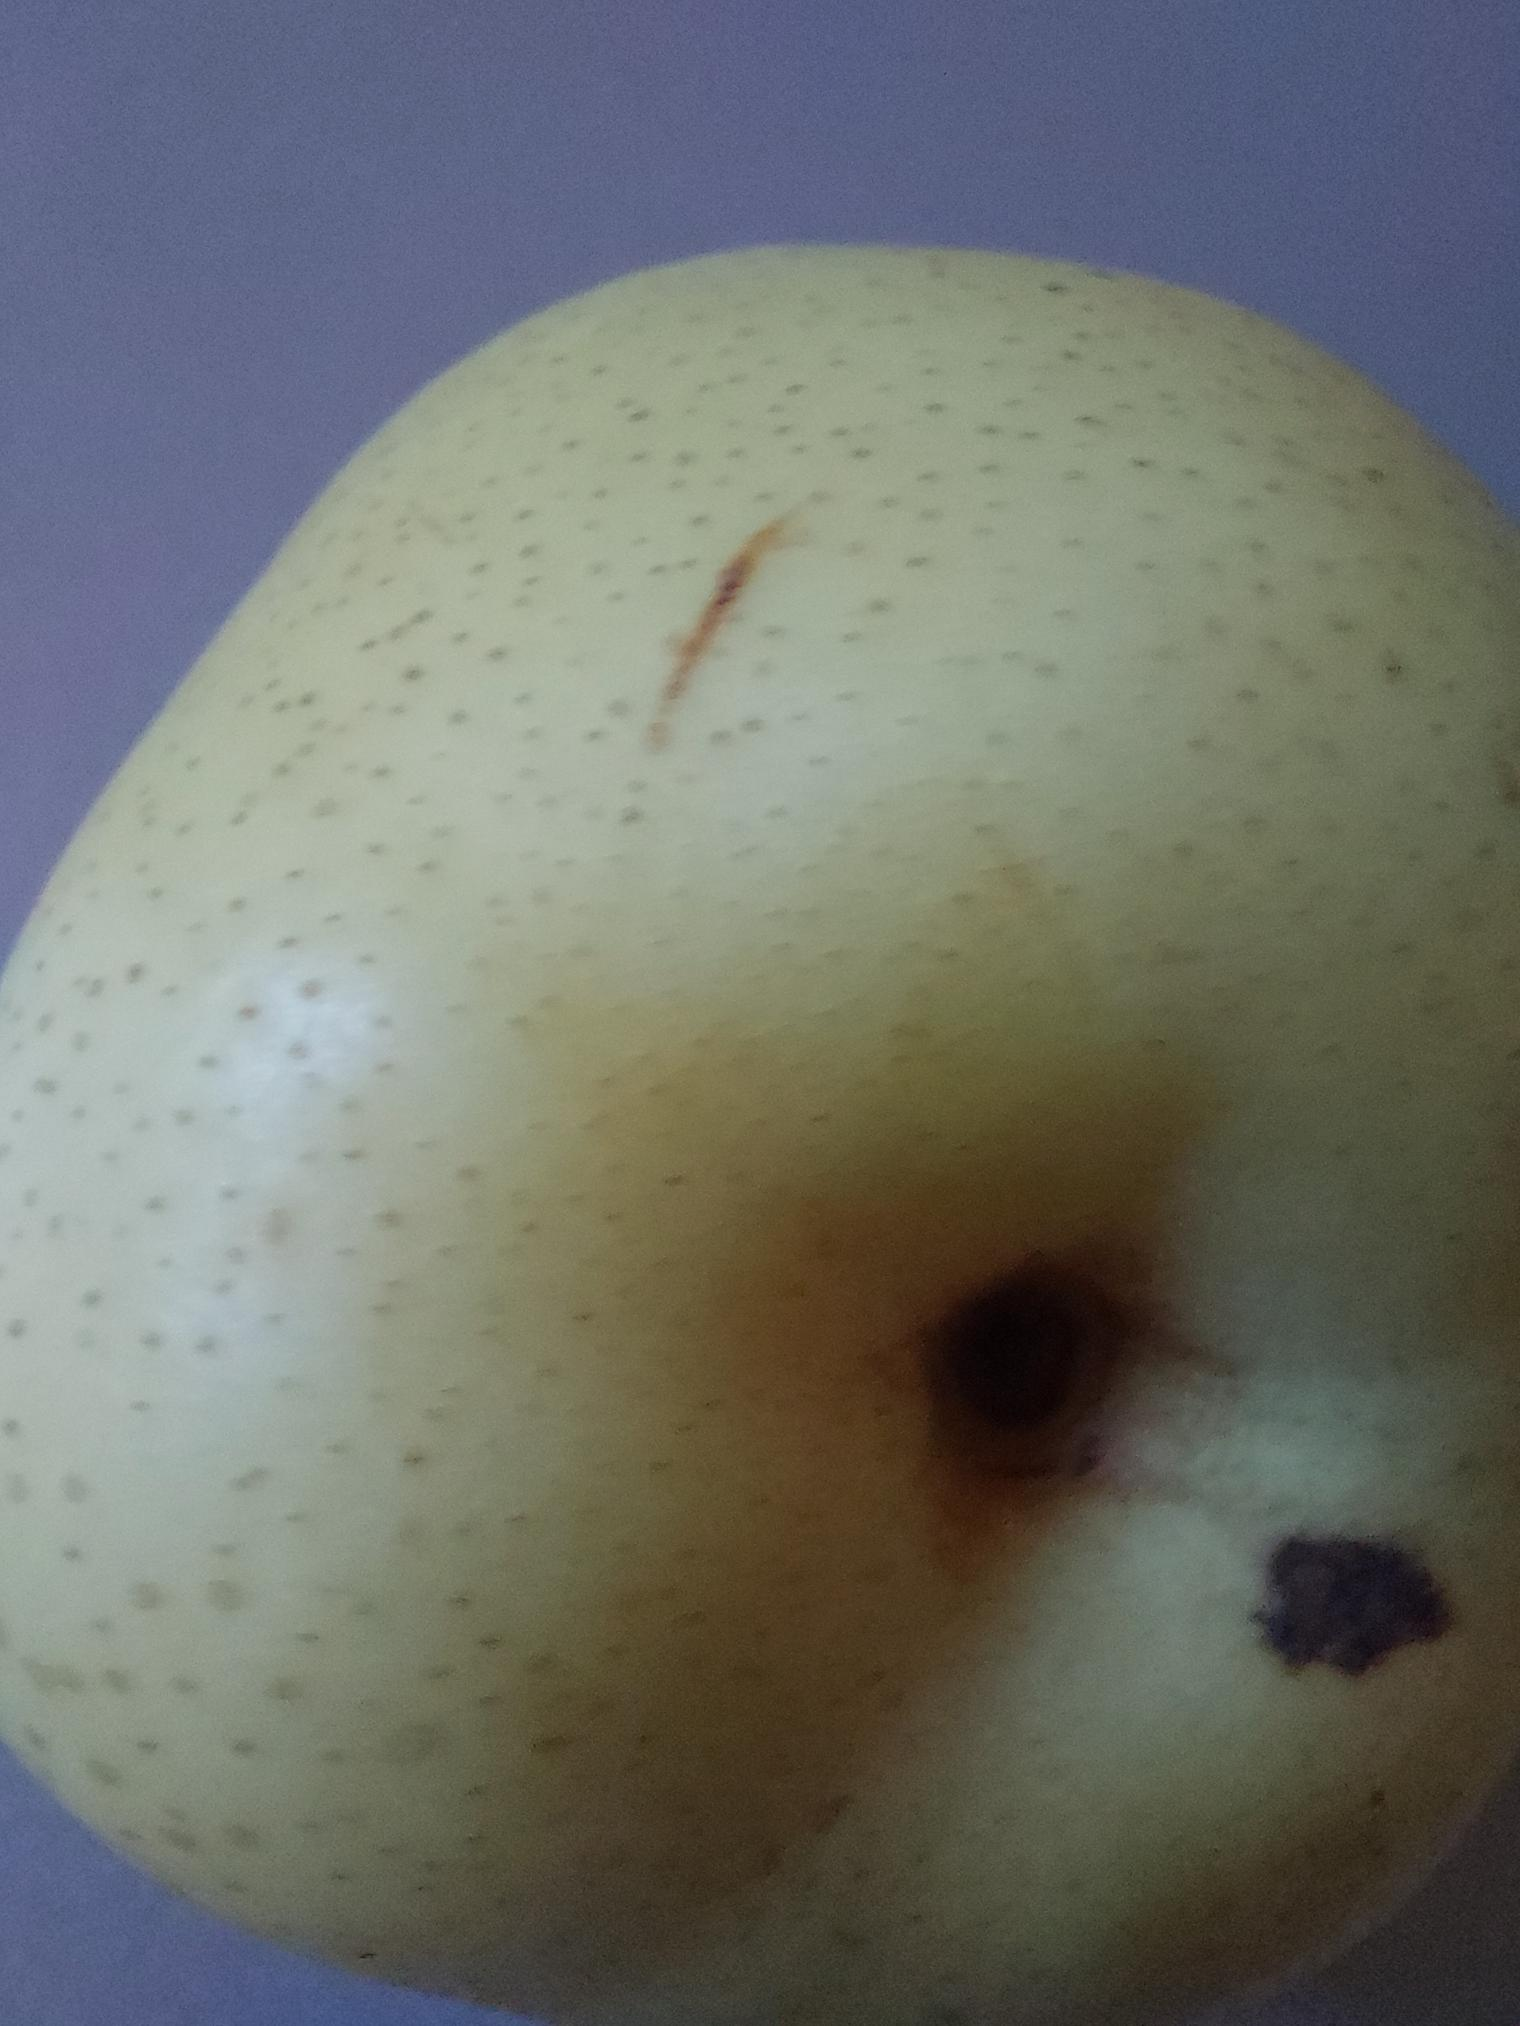Good Pear: (0, 204, 1520, 2026)
